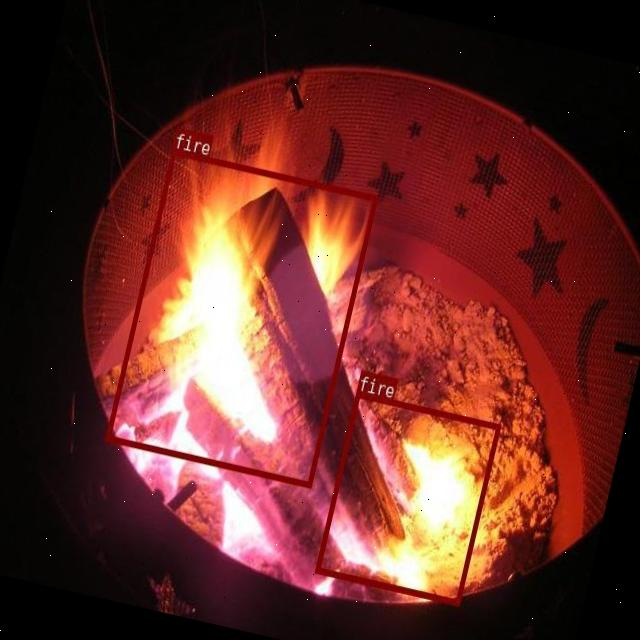fire: (105, 147, 378, 486), (314, 390, 500, 604)
